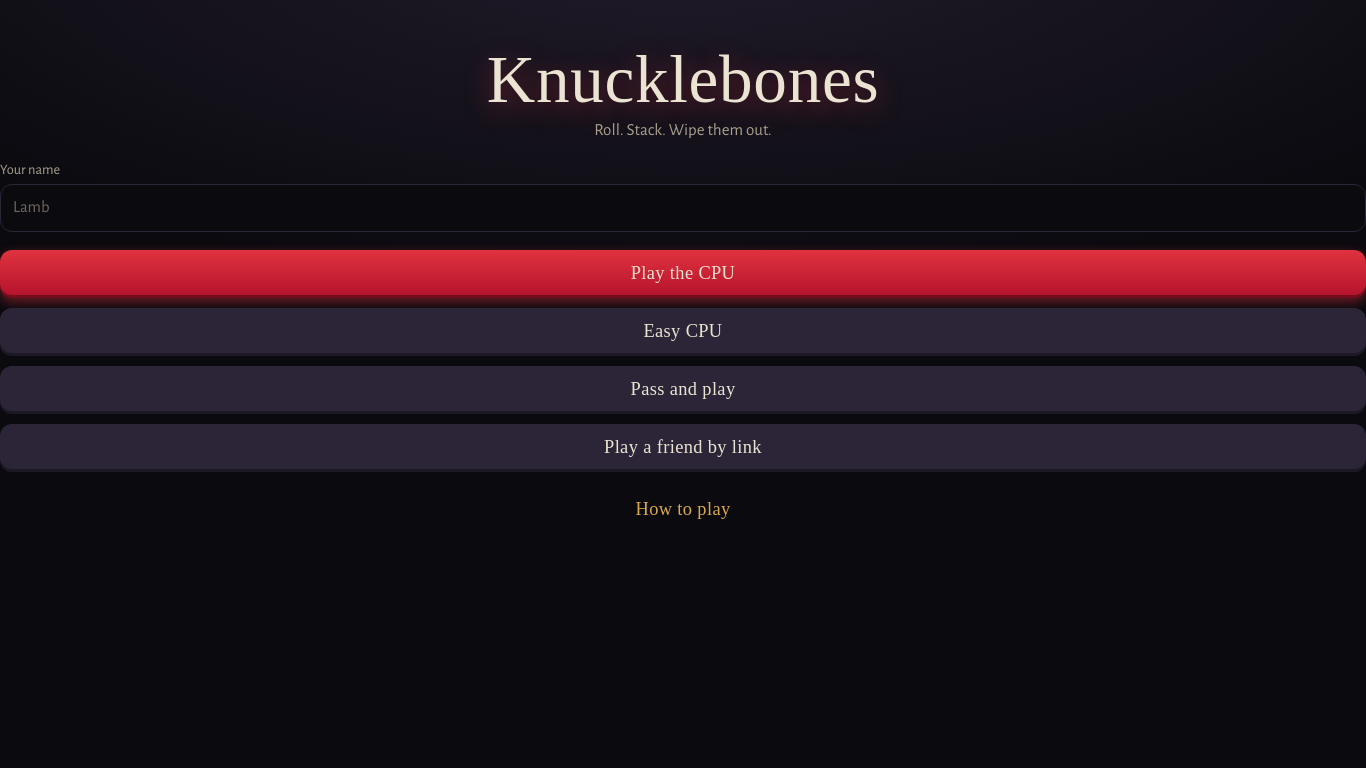
Test: HomeScreen › opens the rules
Click the button "How to play".
click(683, 510)  # box [0,490,1365,530]
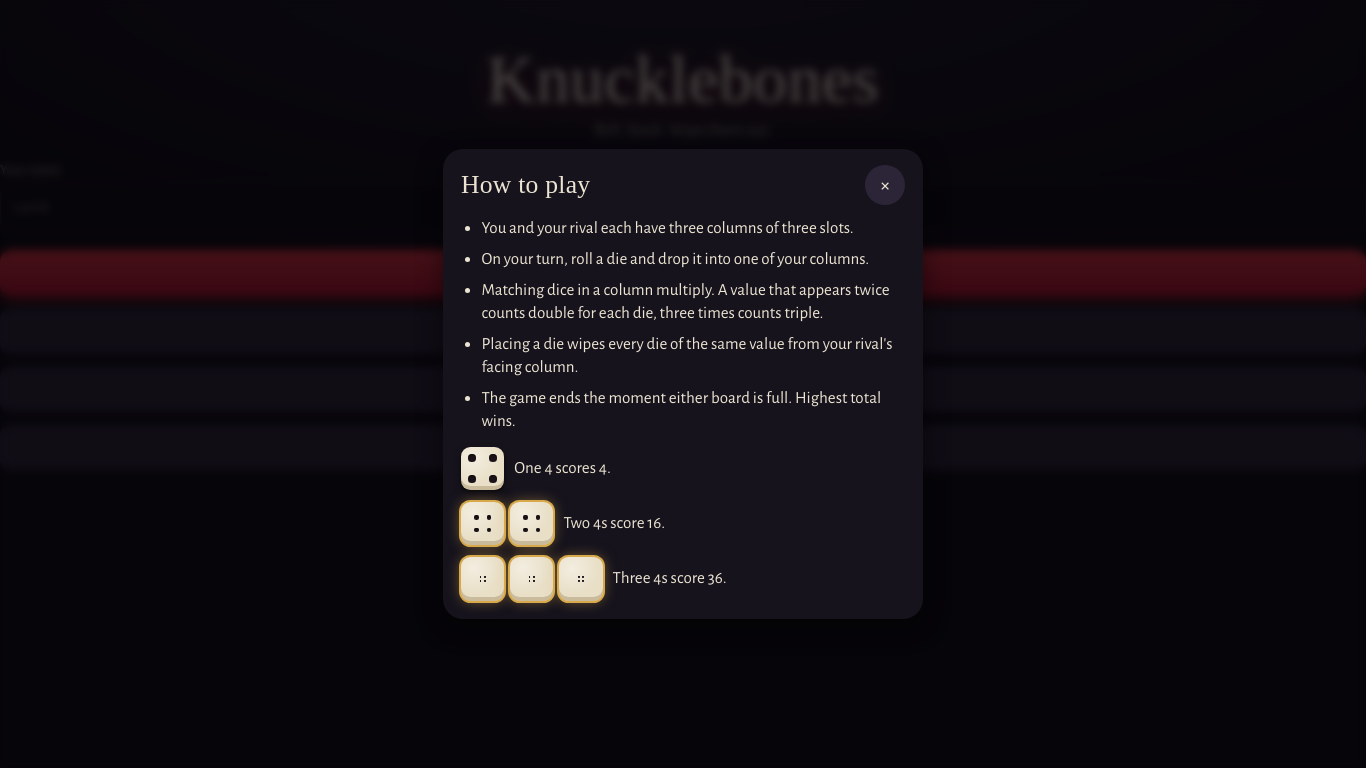
Result: the dialog "How to play" is shown at [443,150,923,619]
Click the button named "Close".
click(885, 186)  # box [865,166,905,206]
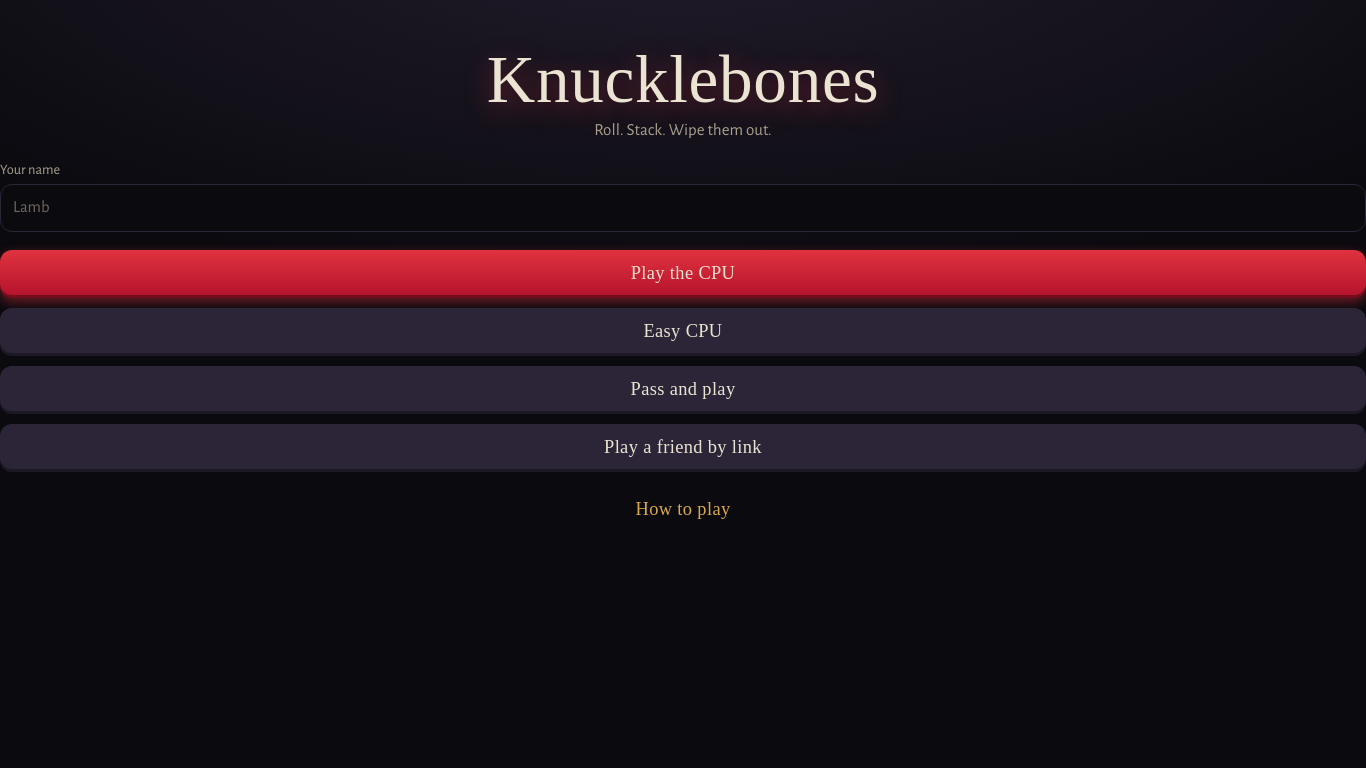
Result: the dialog is gone
